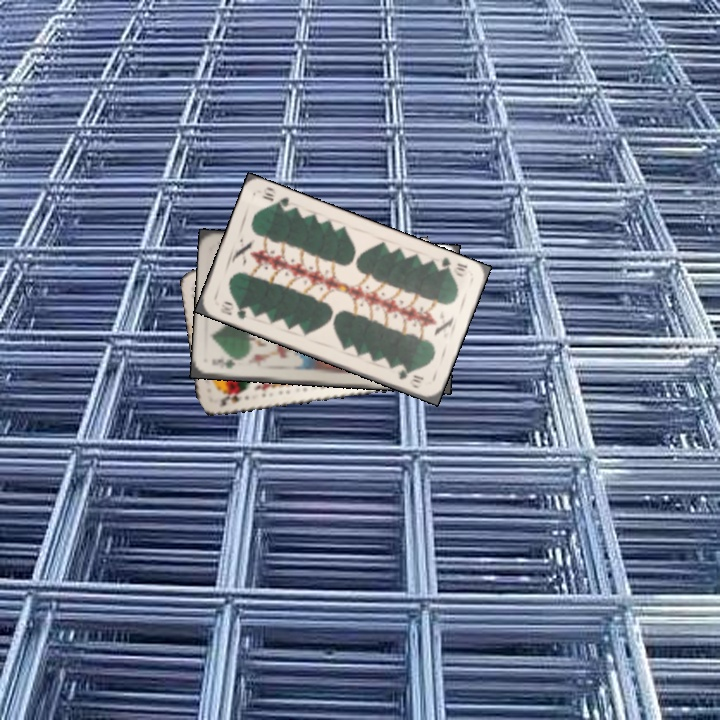G10: (431, 253, 470, 279), (216, 297, 250, 322)
GK: (212, 355, 237, 371)
SK: (217, 387, 251, 408)
